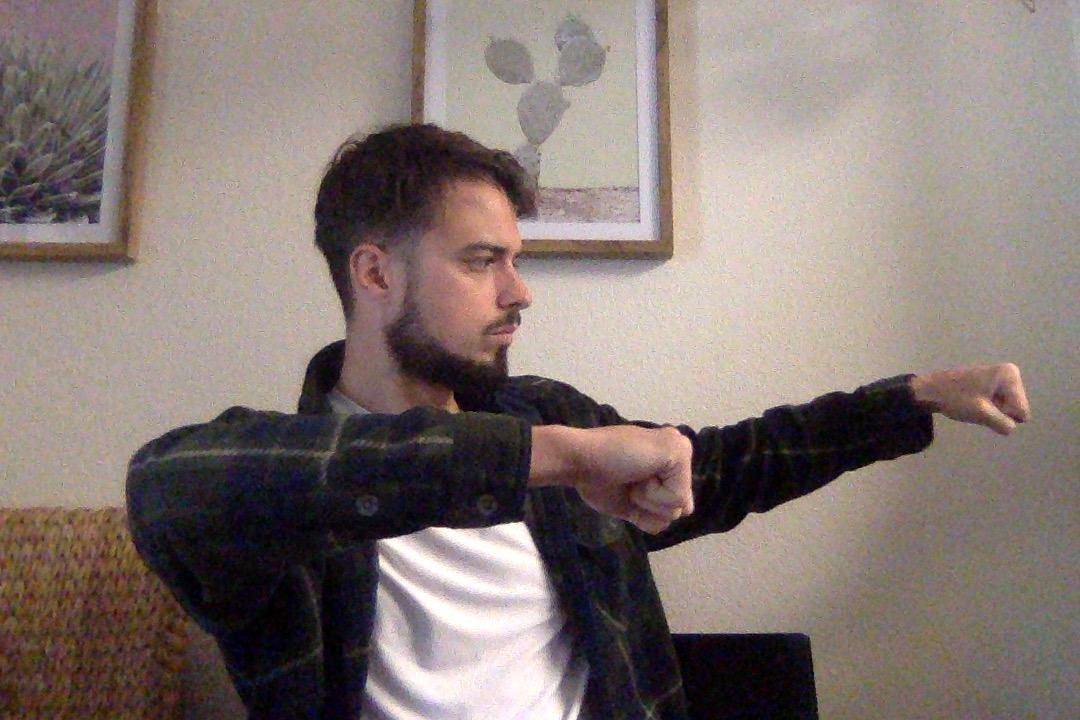Right-Fist: (560, 418, 699, 536), (924, 360, 1027, 448)
